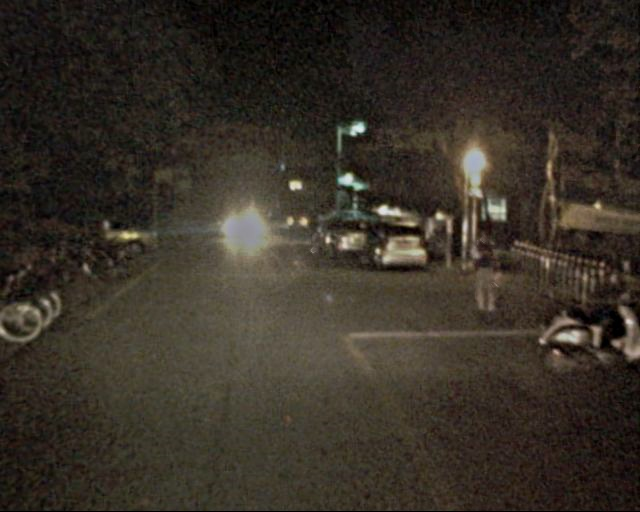person: (463, 227, 501, 319)
